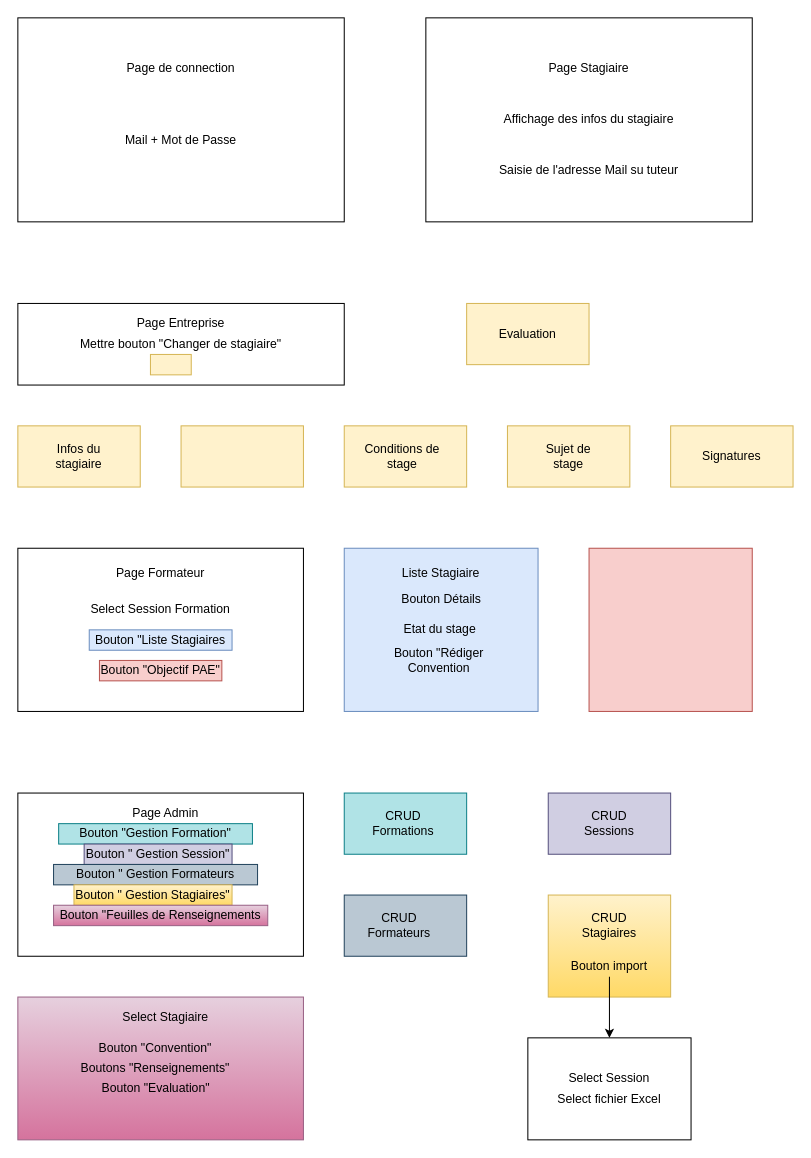
Image size: 811x1158. Some labels were removed from this diagram. Here are the shapes that lost their labels. From the top down, the centre of each, then its label:
At [170,364]: "Onglets".
At [241,456]: "Infos Entreprise".
At [670,629]: "Zone de texte".
